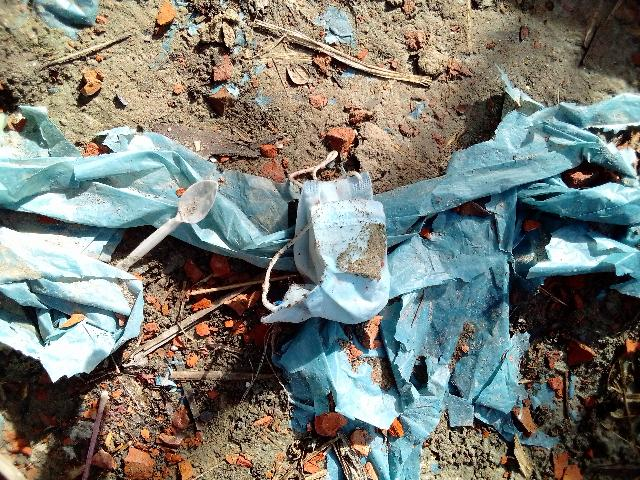mask: (283, 168, 393, 329)
